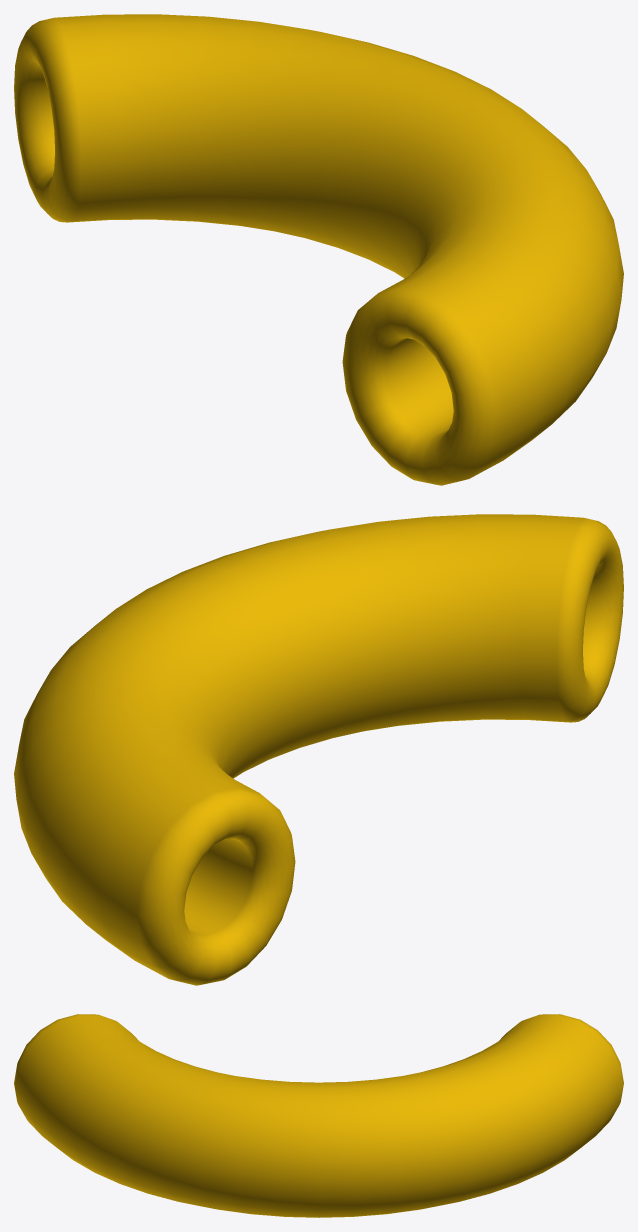
File: kraftNoodle_01.fbx
The picture shows the model from 3 angles, top to bottom: view 1: azimuth 30°, elevation 25°; view 2: azimuth 150°, elevation 25°; view 3: azimuth 270°, elevation 25°; orthographic projection. The views are drawn at different scales.
Parts seen in each view (by area): view 1: pPipe1; view 2: pPipe1; view 3: pPipe1.
Part boxes in pixels (bbox=[...]): pPipe1: bbox=[14, 14, 623, 485]; pPipe1: bbox=[14, 514, 623, 985]; pPipe1: bbox=[14, 1014, 623, 1217].
Size of the model in its own units: 3.97 by 2 by 8.95.
